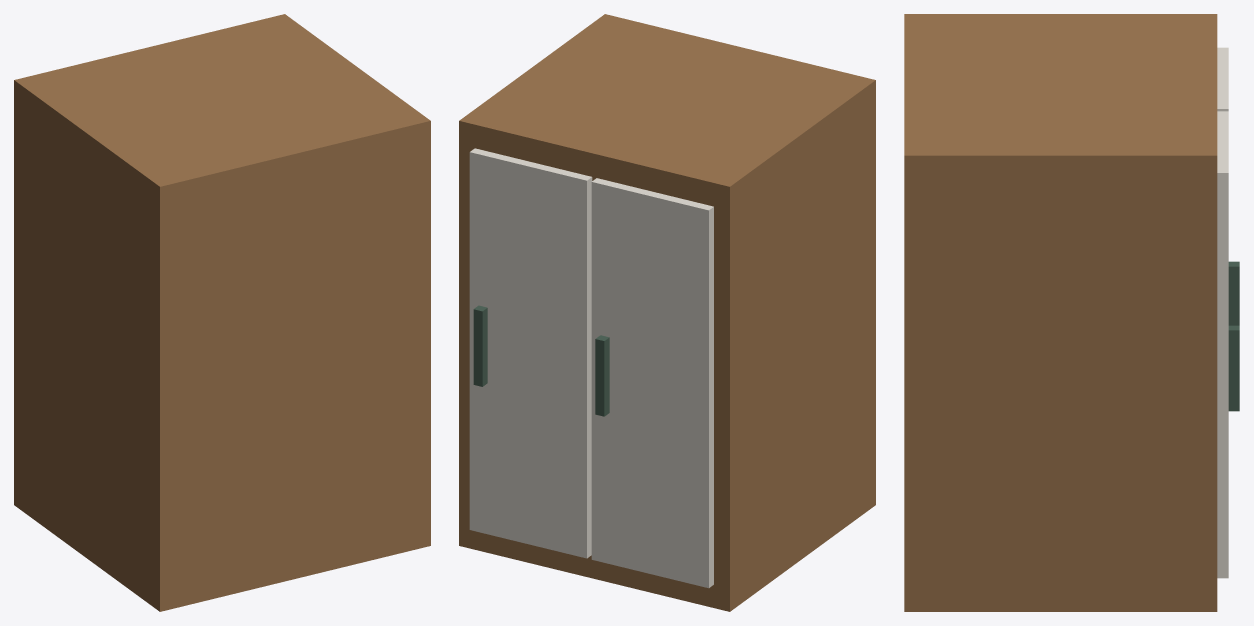
The picture shows the model from 3 angles, left to right: view 1: azimuth 30°, elevation 25°; view 2: azimuth 150°, elevation 25°; view 3: azimuth 270°, elevation 25°; orthographic projection. The views are drawn at different scales.
Parts seen in each view (by area): view 1: body; view 2: body, door-1, door-0, handle-1, handle-0; view 3: body, door-1, handle-1, door-0, handle-0.
Part boxes in pixels (x1=…): body: x1=14, y1=14, x2=430, y2=611; body: x1=459, y1=14, x2=875, y2=611; door-1: x1=469, y1=148, x2=592, y2=558; door-0: x1=591, y1=178, x2=713, y2=588; handle-1: x1=473, y1=305, x2=487, y2=386; handle-0: x1=595, y1=335, x2=609, y2=416; body: x1=904, y1=14, x2=1217, y2=611; door-1: x1=1217, y1=111, x2=1228, y2=578; handle-1: x1=1228, y1=325, x2=1239, y2=411; door-0: x1=1217, y1=47, x2=1228, y2=111; handle-0: x1=1228, y1=261, x2=1239, y2=325.
Size of the model in its own units: 0.6 by 0.9 by 0.6.
